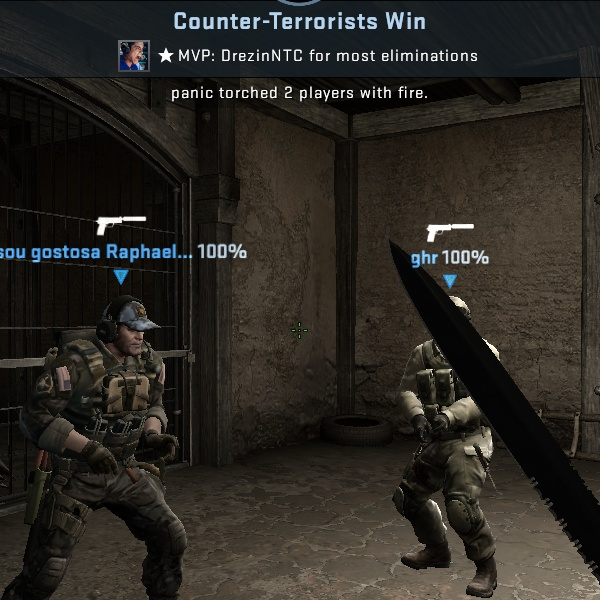ct_body: (15, 290, 203, 600), (361, 287, 520, 585)
ct_head: (92, 290, 161, 357)
